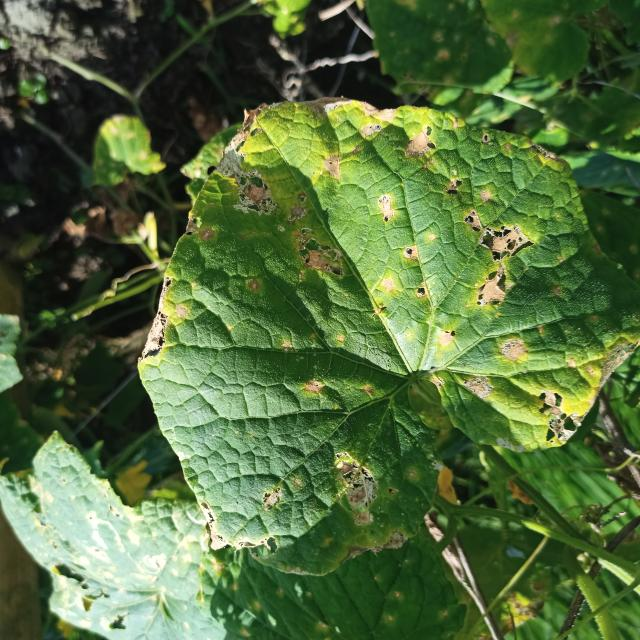disease_cucumber: (168, 102, 625, 554)
